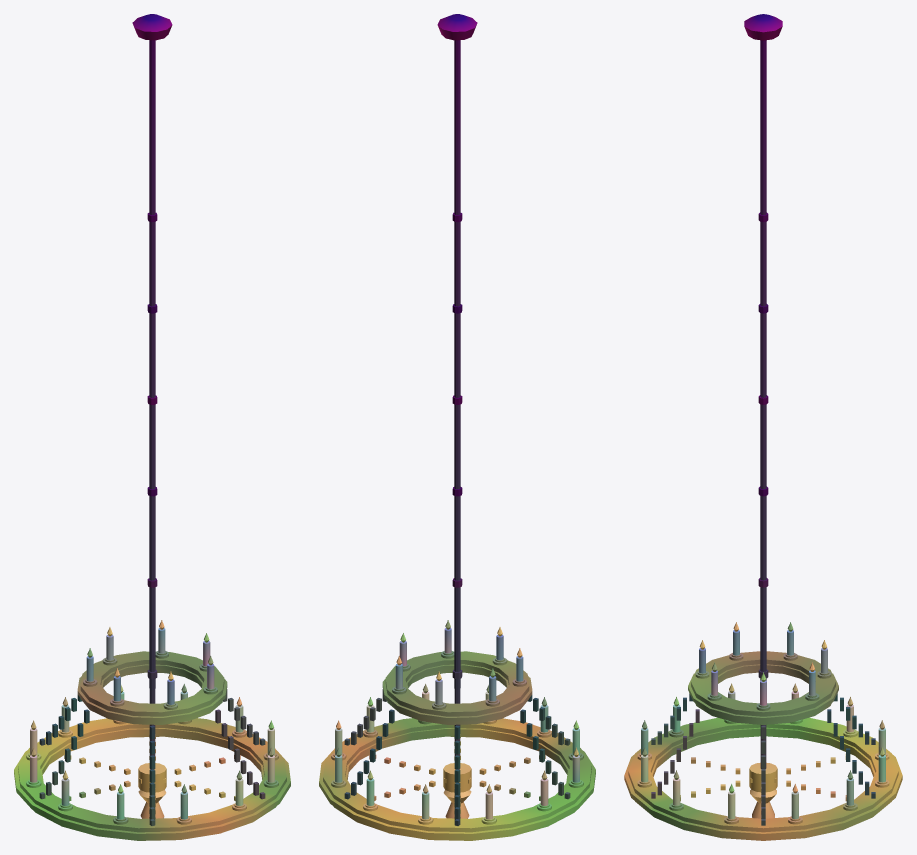
File: chandelier_dome_high.glb
The picture shows the model from 3 angles, left to right: view 1: azimuth 30°, elevation 25°; view 2: azimuth 150°, elevation 25°; view 3: azimuth 270°, elevation 25°; orthographic projection.
Visible parts, largest first — view 1: chand_ring, chand_chain, chand_candles, chand_boss; view 2: chand_ring, chand_chain, chand_candles, chand_boss; view 3: chand_ring, chand_chain, chand_candles, chand_boss.
Boxes of the visible parts, x1,y1,x2,y2 form: chand_ring: [14, 651, 290, 840]; chand_chain: [39, 40, 265, 825]; chand_candles: [30, 628, 274, 819]; chand_boss: [132, 14, 172, 40]; chand_ring: [319, 651, 595, 840]; chand_chain: [344, 40, 570, 825]; chand_candles: [335, 628, 579, 819]; chand_boss: [437, 14, 477, 40]; chand_ring: [624, 651, 902, 840]; chand_chain: [651, 40, 875, 825]; chand_candles: [641, 630, 885, 819]; chand_boss: [744, 14, 782, 40].
Size of the model in its own units: 2.76 by 8.9 by 2.76.
